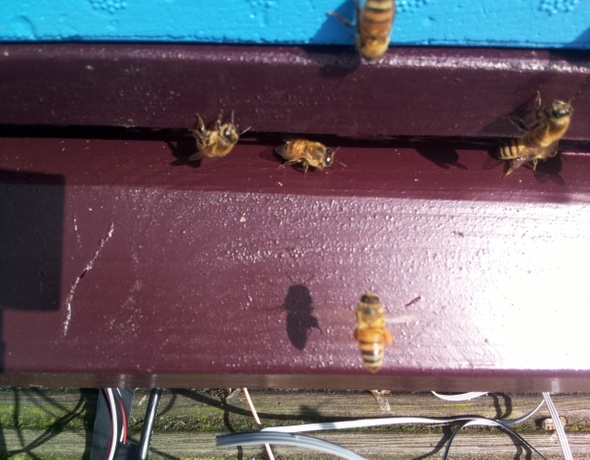no_pollen: (516, 93, 578, 153), (349, 1, 399, 63), (190, 113, 242, 165), (492, 135, 567, 170), (273, 135, 337, 175)
pollen: (348, 288, 398, 376)
